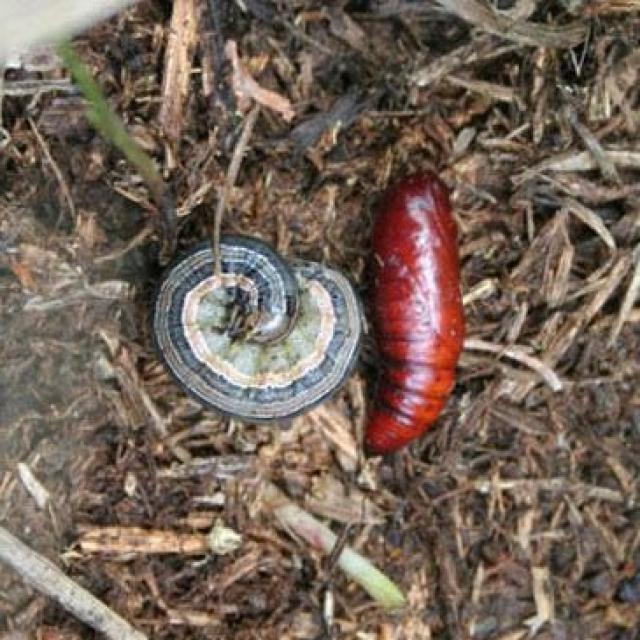army worm: (145, 235, 366, 431), (350, 163, 462, 489)
